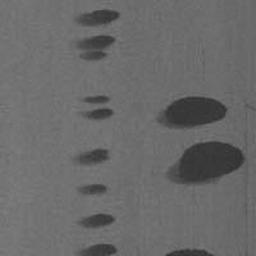Oil spot: (164, 140, 246, 187), (154, 95, 229, 131), (68, 33, 118, 63), (76, 93, 115, 124), (70, 8, 122, 29), (69, 147, 111, 168), (73, 212, 116, 230), (72, 242, 119, 256), (73, 183, 109, 198), (164, 246, 218, 256)
